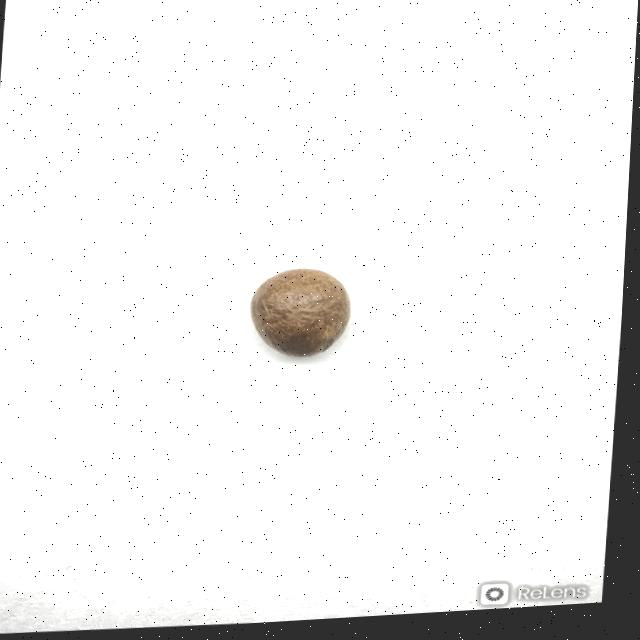Good bean: (249, 269, 357, 363)
